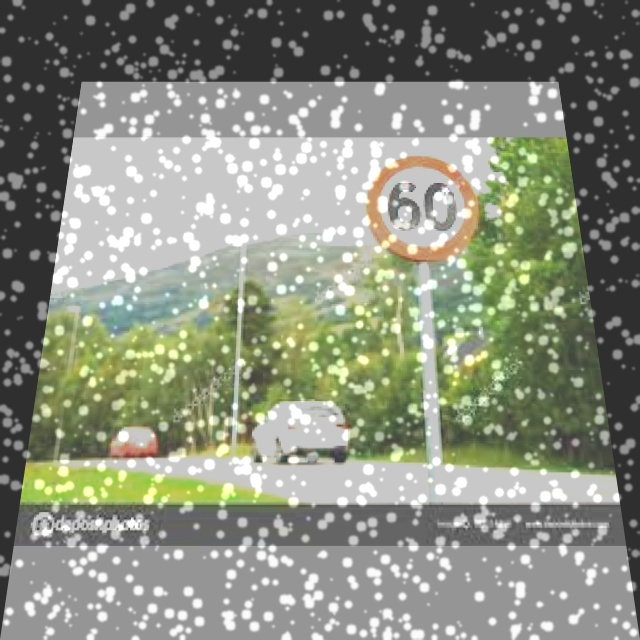Speed_Limit_60: (363, 151, 482, 259)
